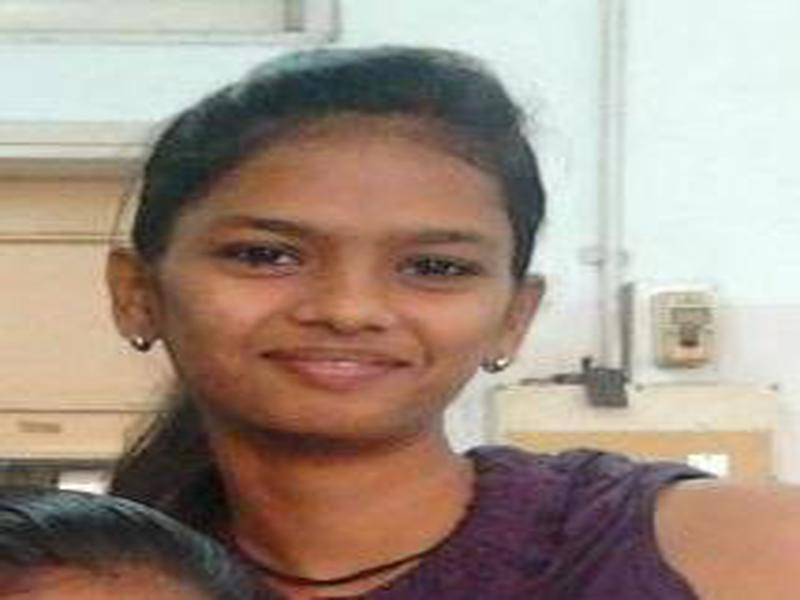without_mask: (165, 146, 516, 444)
